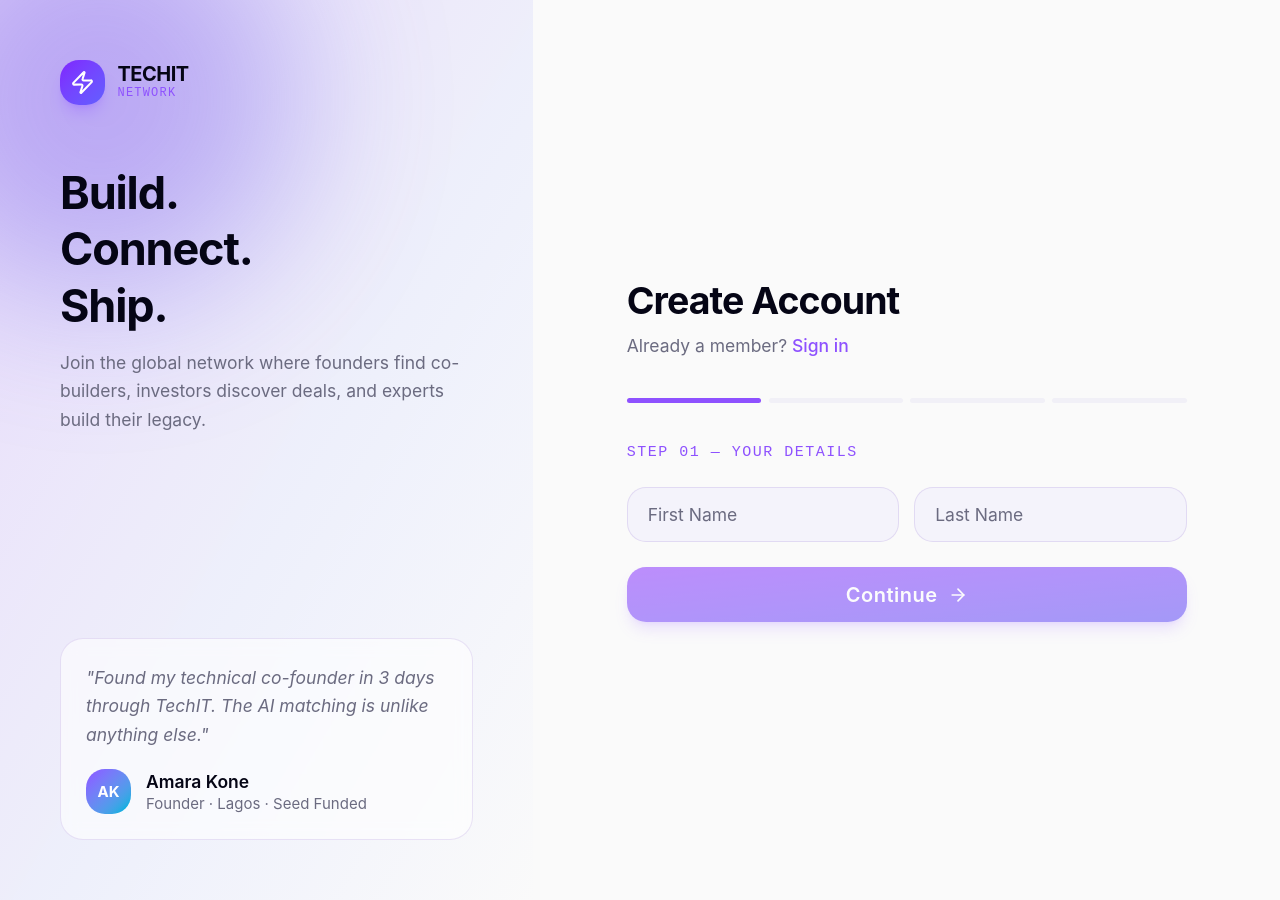
Test: Signup page › Step 1 — Your Details › advances to step 2 on valid names
This screenshot has width=1280, height=900.
In the field with placeholder "First Name": (763,515) [627,488,899,542], type "Alice"
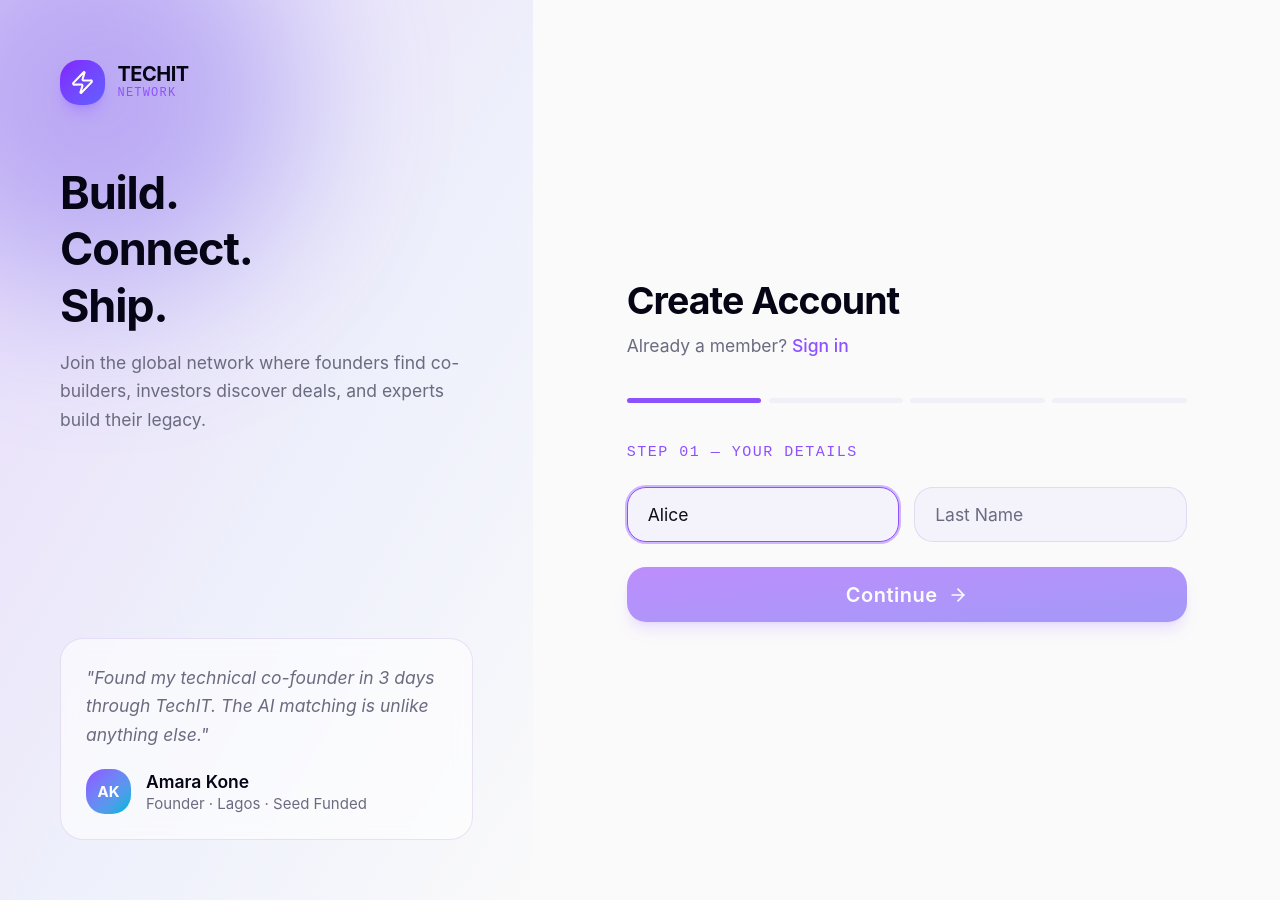
In the field with placeholder "Last Name": (1050,515) [914,488,1187,542], type "Smith"
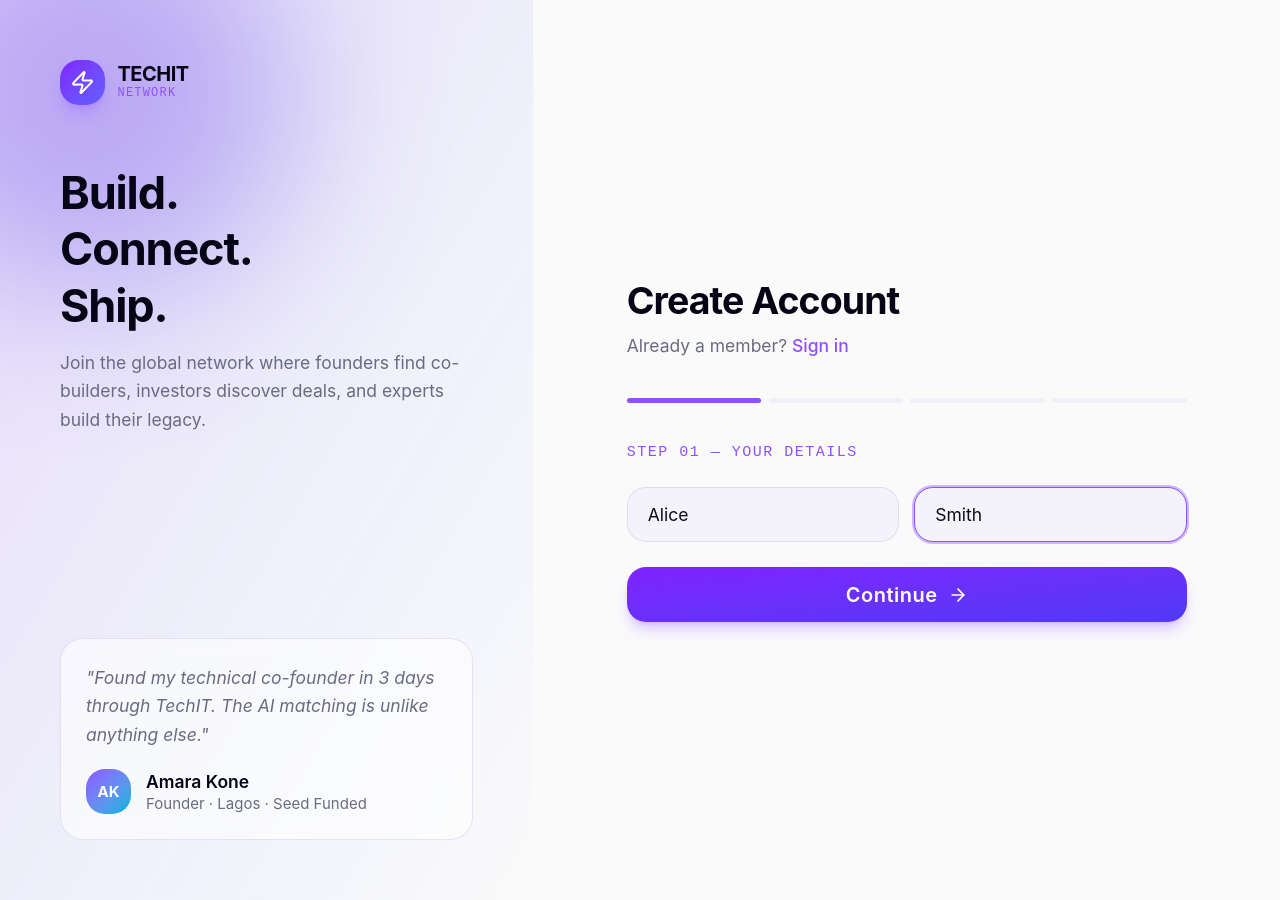
Click the button "Continue": (907,595) [627,568,1187,622]
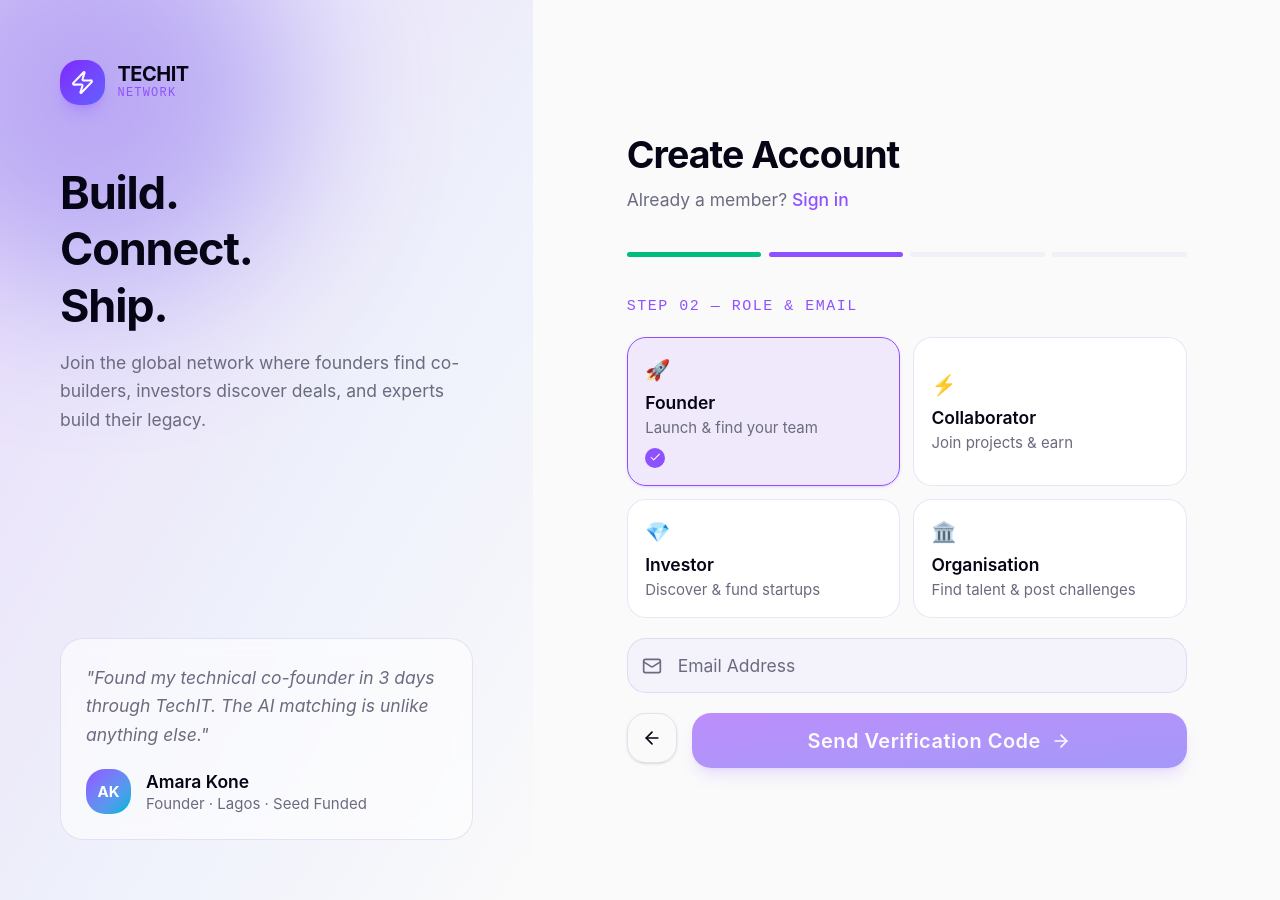
Result: the text "Step 02 — Role & Email" is shown at [627,298,858,315]
